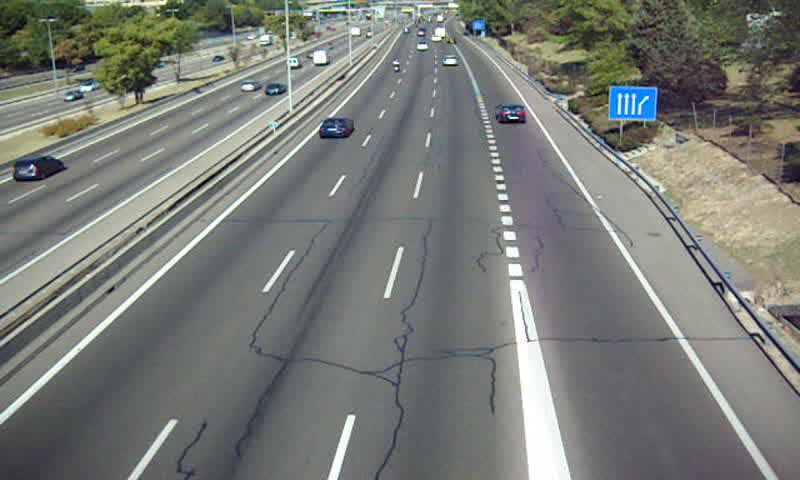car: (319, 117, 355, 138), (495, 103, 525, 124)
motorcycle: (391, 58, 400, 74)
